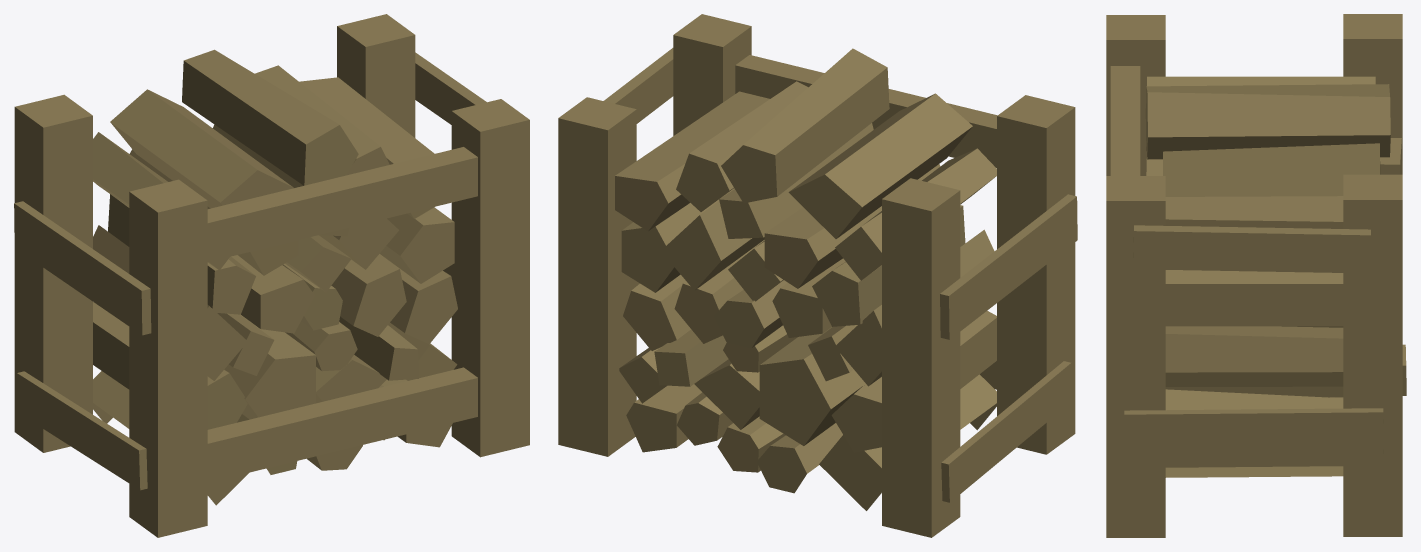
File: woodpile_01.fbx
3 renders of one model, left to right at view 1: azimuth 30°, elevation 25°; view 2: azimuth 150°, elevation 25°; view 3: azimuth 270°, elevation 25°, orthographic. The views are drawn at different scales.
Parts seen in each view (by area): view 1: woodpile_01; view 2: woodpile_01; view 3: woodpile_01.
Part boxes in pixels (x1,y1,x2,y2): woodpile_01: (14,14,529,537); woodpile_01: (558,14,1077,537); woodpile_01: (1106,14,1406,537).
Bounding box in the file's own units: 3.17 × 2.7 × 2.03.
